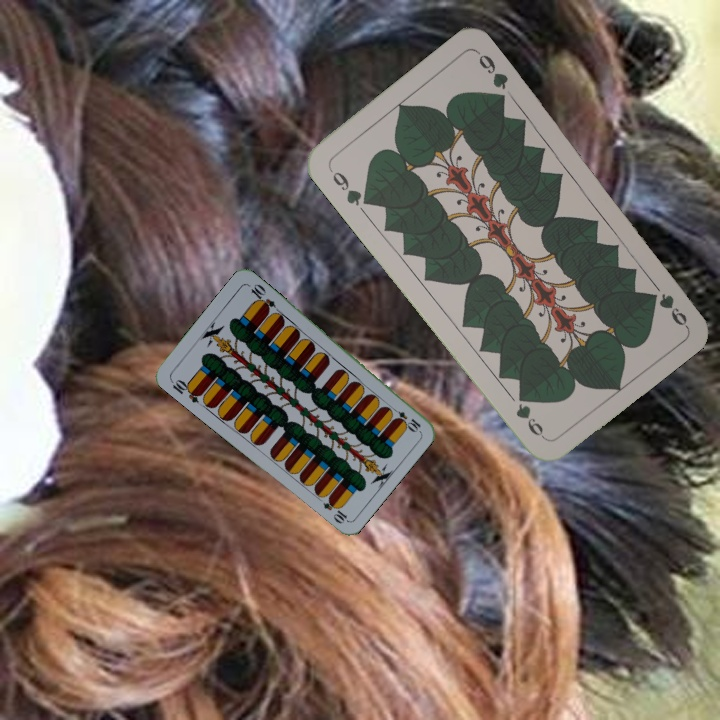E10: (167, 375, 204, 406), (387, 403, 423, 434)
G9: (325, 164, 374, 209), (655, 289, 690, 329)
